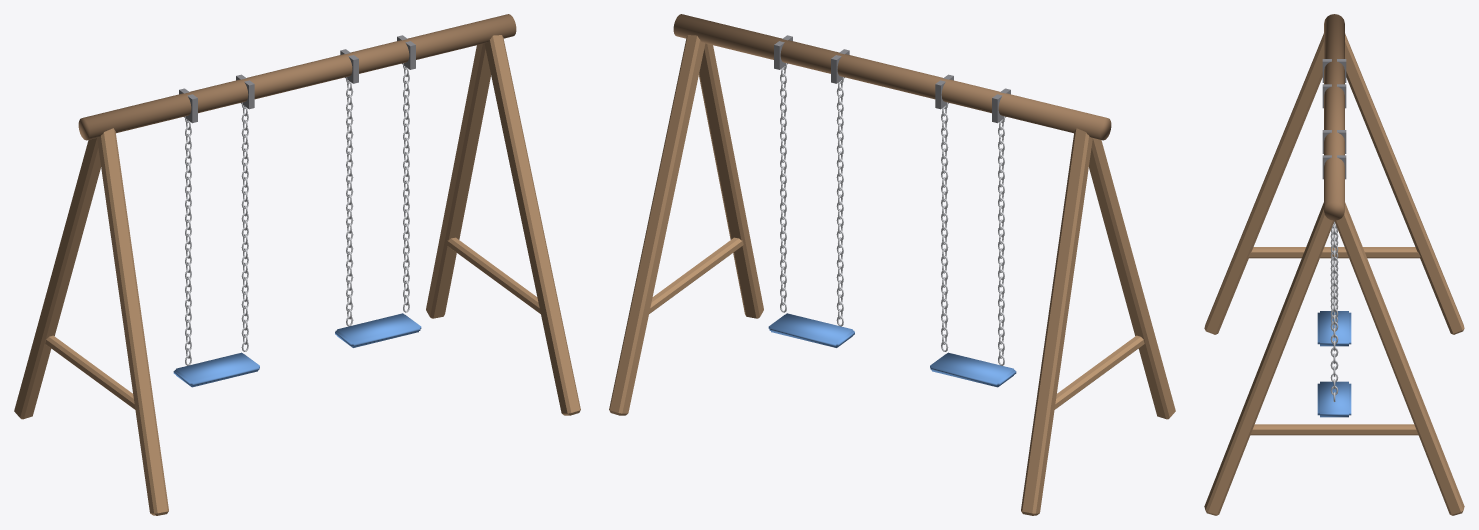
File: swing_set.glb
3 views of the same model, side by side, from view 1: azimuth 30°, elevation 25°; view 2: azimuth 150°, elevation 25°; view 3: azimuth 270°, elevation 25° (orthographic). The views are drawn at different scales.
Visible parts, largest first — view 1: Frame, TopBar, Seat0, Seat1; view 2: Frame, TopBar, Seat0, Seat1; view 3: Frame, TopBar, Seat1, Seat0.
Part boxes in pixels (left/top/right/bottom): Frame: left=14, top=35, right=580, bottom=515; TopBar: left=78, top=14, right=516, bottom=140; Seat0: left=173, top=74, right=259, bottom=387; Seat1: left=335, top=35, right=421, bottom=347; Frame: left=609, top=35, right=1175, bottom=515; TopBar: left=673, top=14, right=1111, bottom=140; Seat0: left=930, top=74, right=1016, bottom=387; Seat1: left=768, top=35, right=854, bottom=347; Frame: left=1204, top=33, right=1464, bottom=515; TopBar: left=1324, top=14, right=1344, bottom=220; Seat1: left=1317, top=130, right=1351, bottom=417; Seat0: left=1317, top=59, right=1351, bottom=346.
Size of the model in its own units: 4.5 by 3.52 by 2.63.
